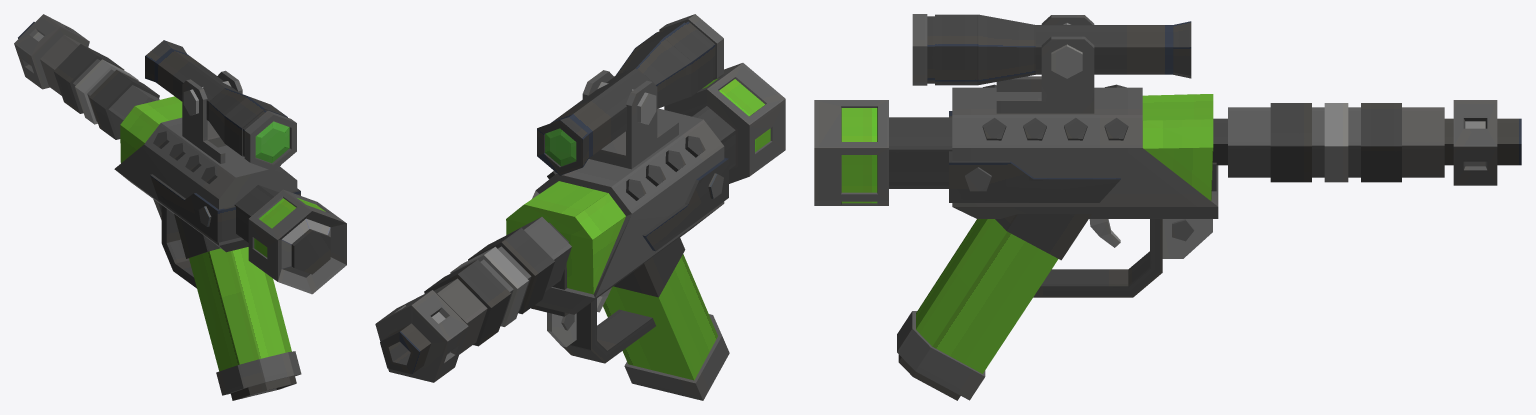
The model's file is pistol_5.glb.
The picture shows the model from 3 angles, left to right: view 1: azimuth 30°, elevation 25°; view 2: azimuth 150°, elevation 25°; view 3: azimuth 270°, elevation 25°; orthographic projection. The views are drawn at different scales.
Parts seen in each view (by area): view 1: pistol_5; view 2: pistol_5; view 3: pistol_5.
Boxes of the visible parts, <box> form: pistol_5: <box>14,14,346,400</box>; pistol_5: <box>375,14,785,400</box>; pistol_5: <box>814,14,1521,400</box>.
Size of the model in its own units: 0.0799 by 0.2554 by 0.4395.
Materials: 1 (1 with a texture image).
